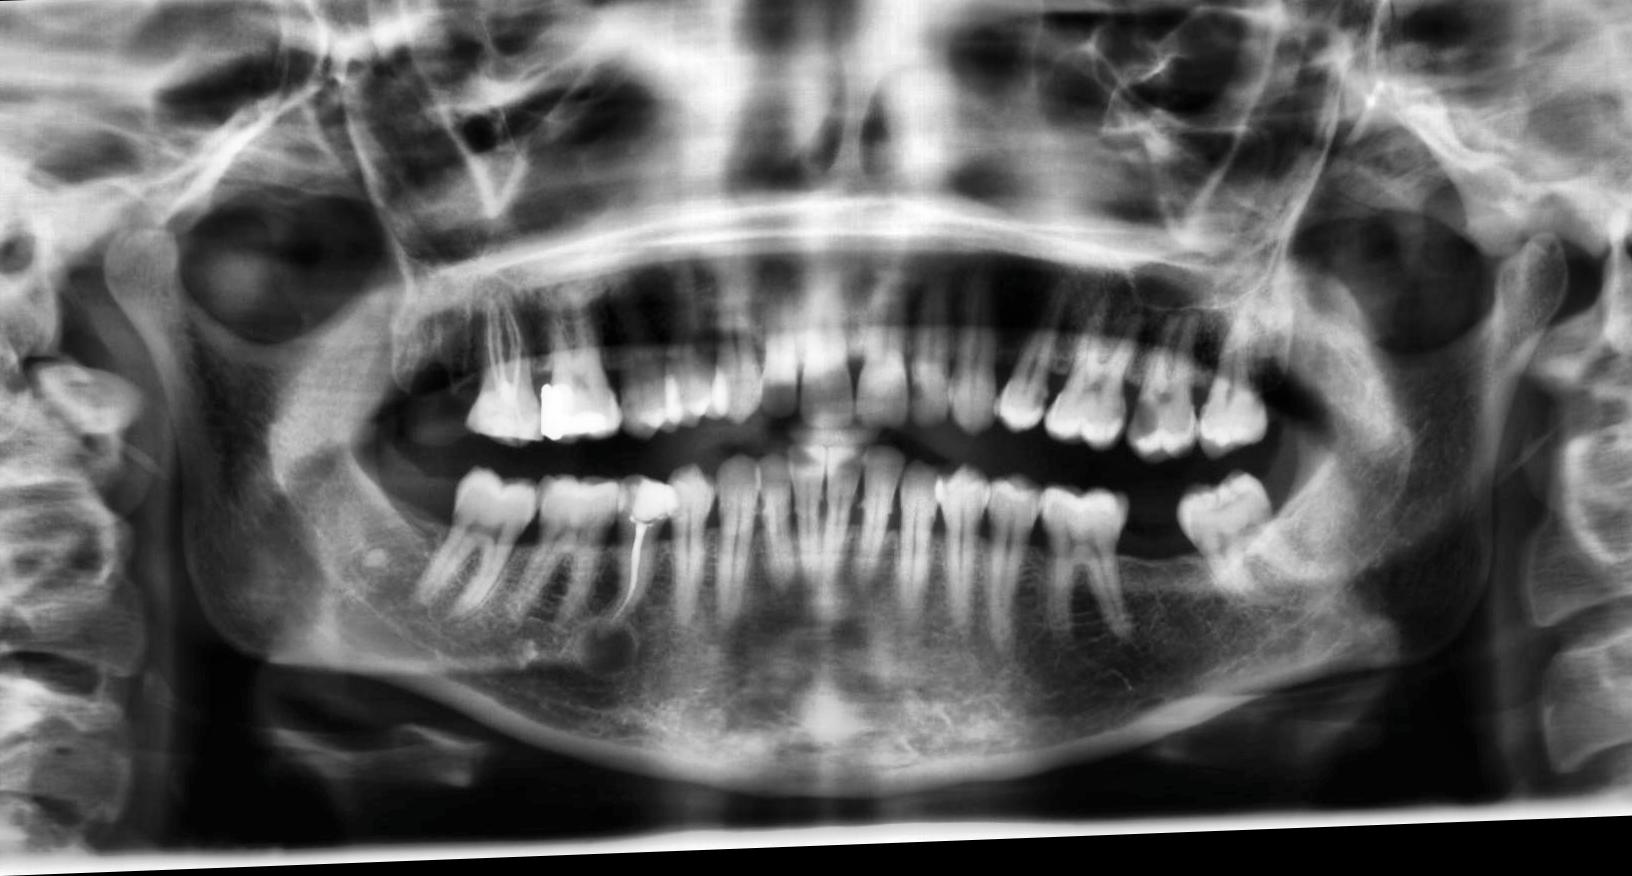radicular: (570, 620, 642, 687)
